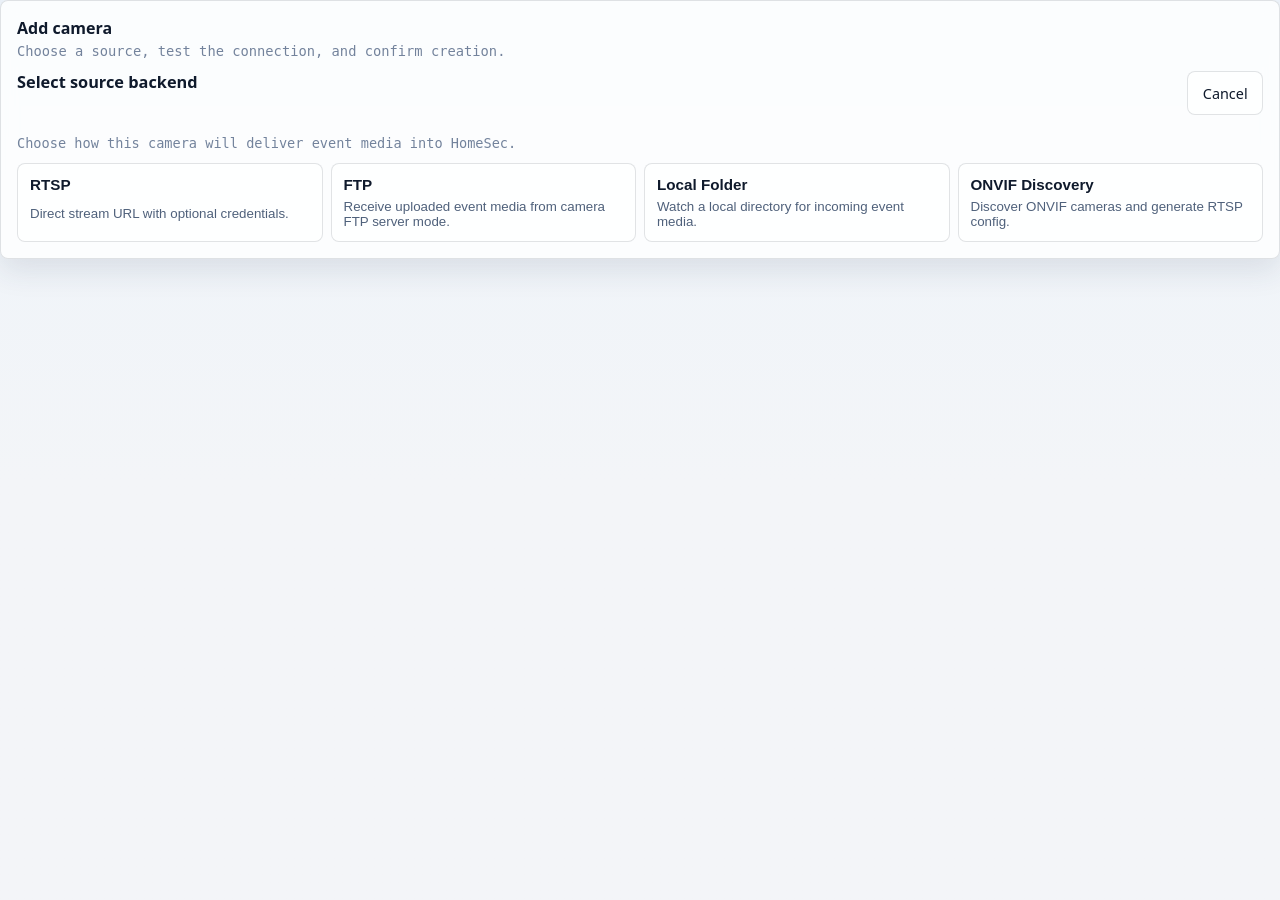
it: CameraAddFlow › rejects duplicate camera names before sending create request
Click the button "RTSP": (50,184) 17,163 -> 322,242
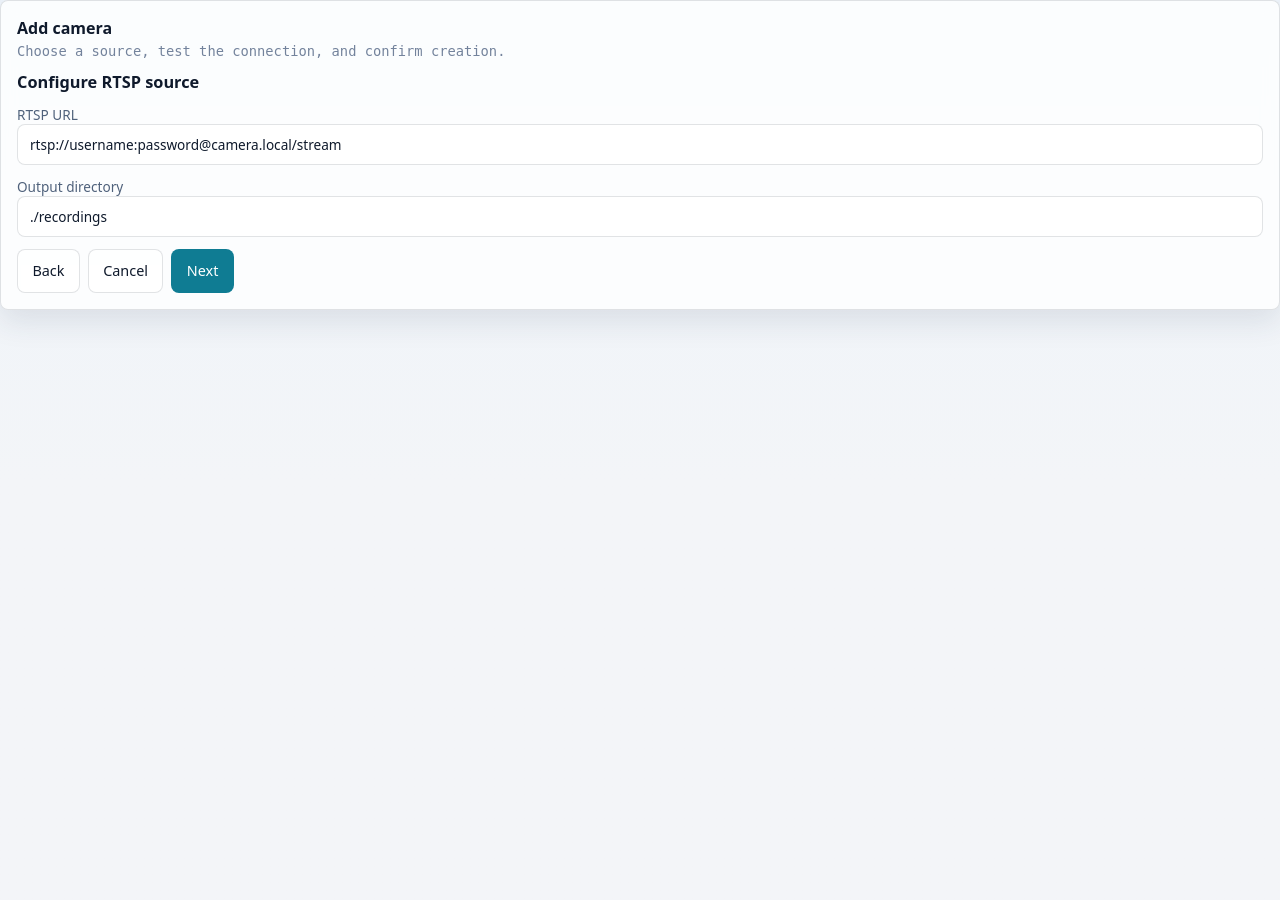
Click the button "Next": (203,271) 171,249 -> 234,293
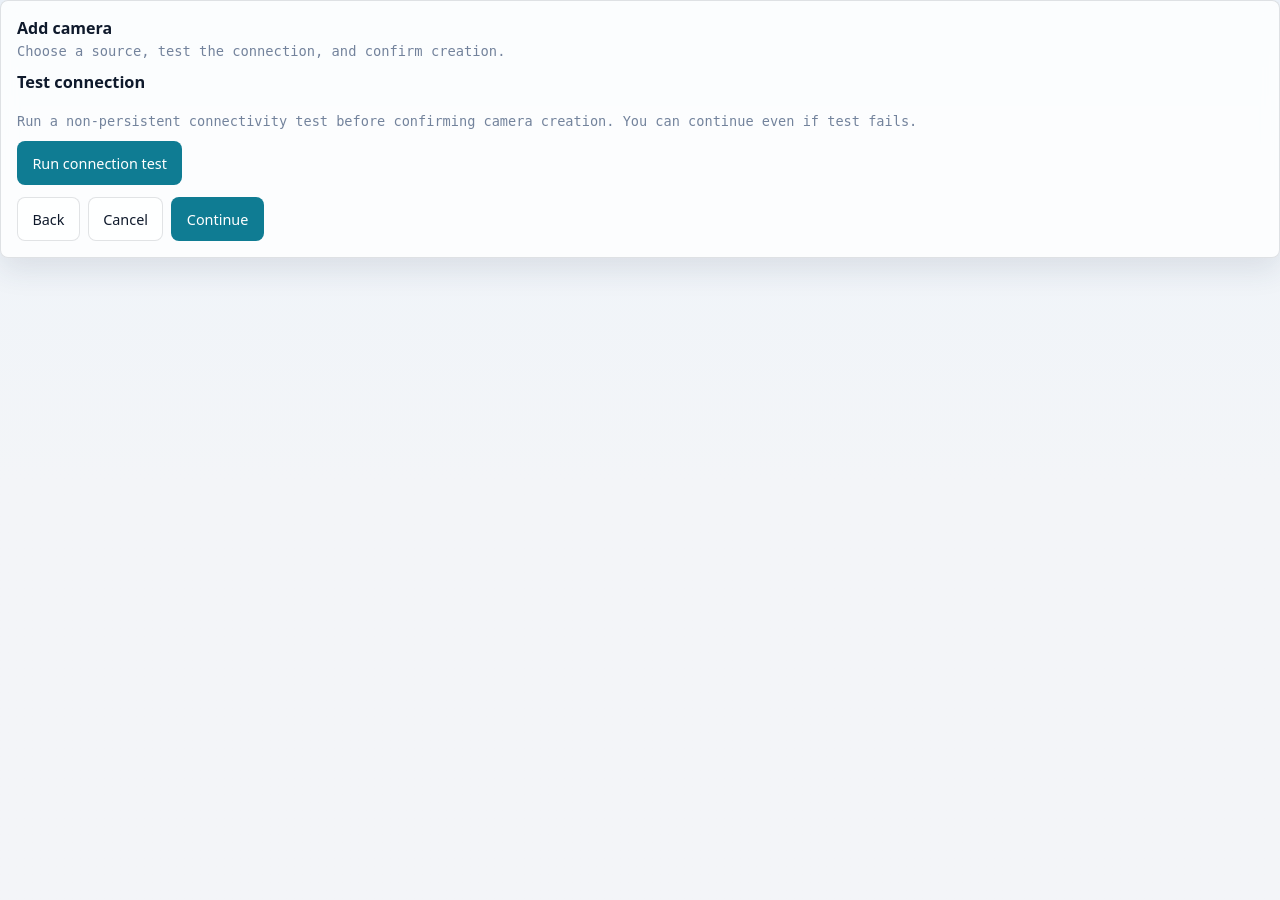
Click the button "Continue": (218,219) 171,197 -> 264,241
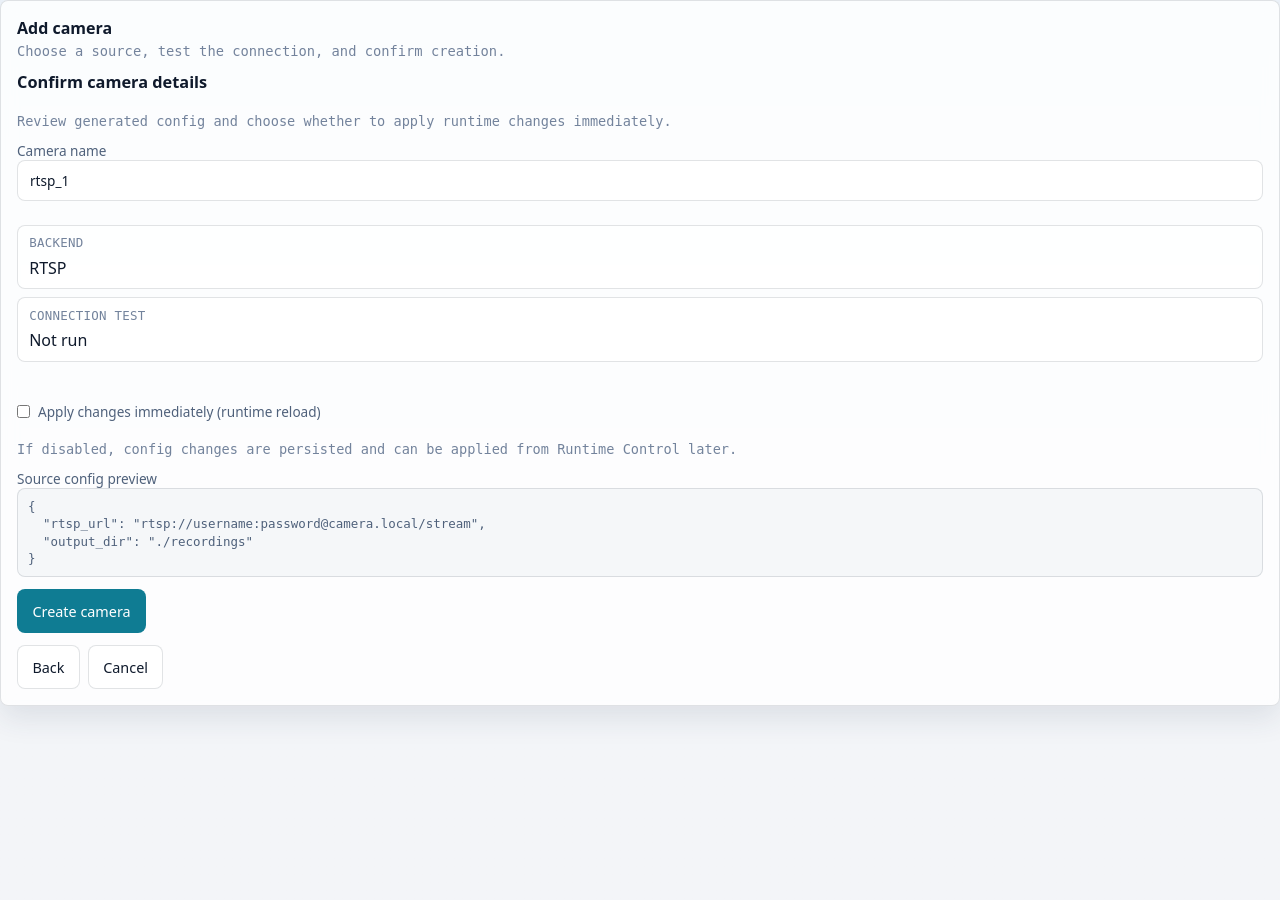
Replace the text in the field labelled "Camera name" with "front_door": (640,180) 17,160 -> 1263,201
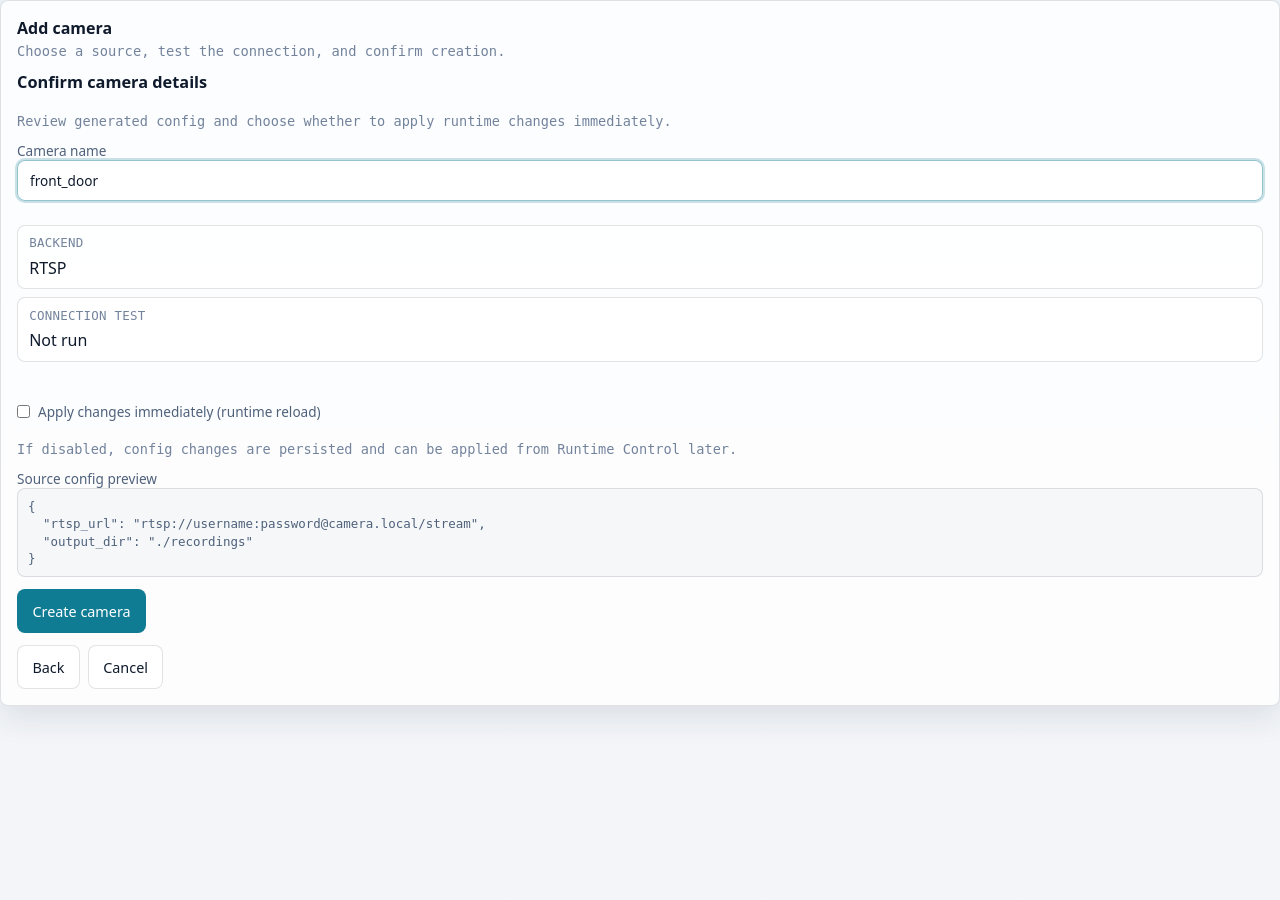
Click the button "Create camera": (82,611) 17,589 -> 146,633
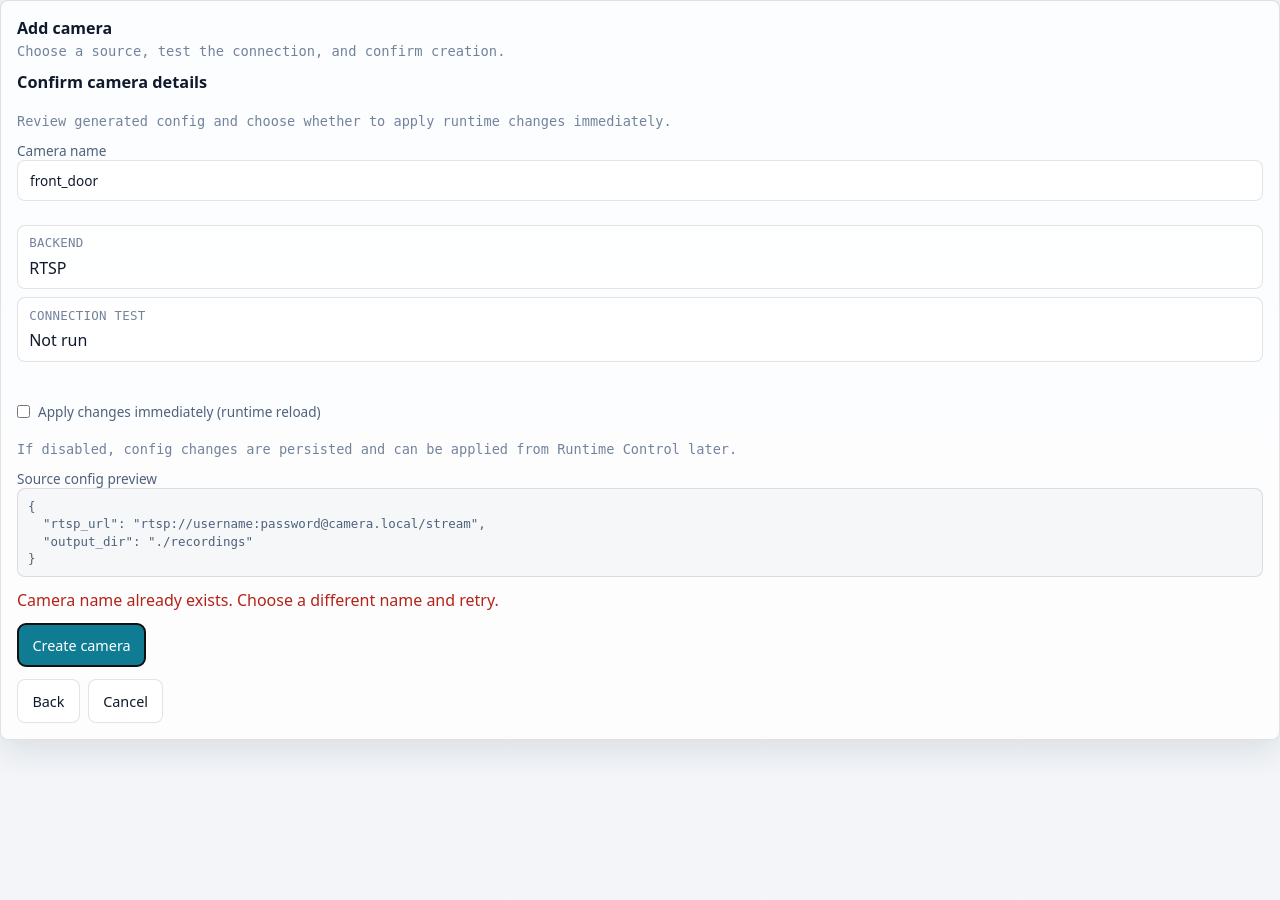
Expected: the text "Camera name already exists. Choose a different name and retry." is shown, 17,589 -> 499,611
